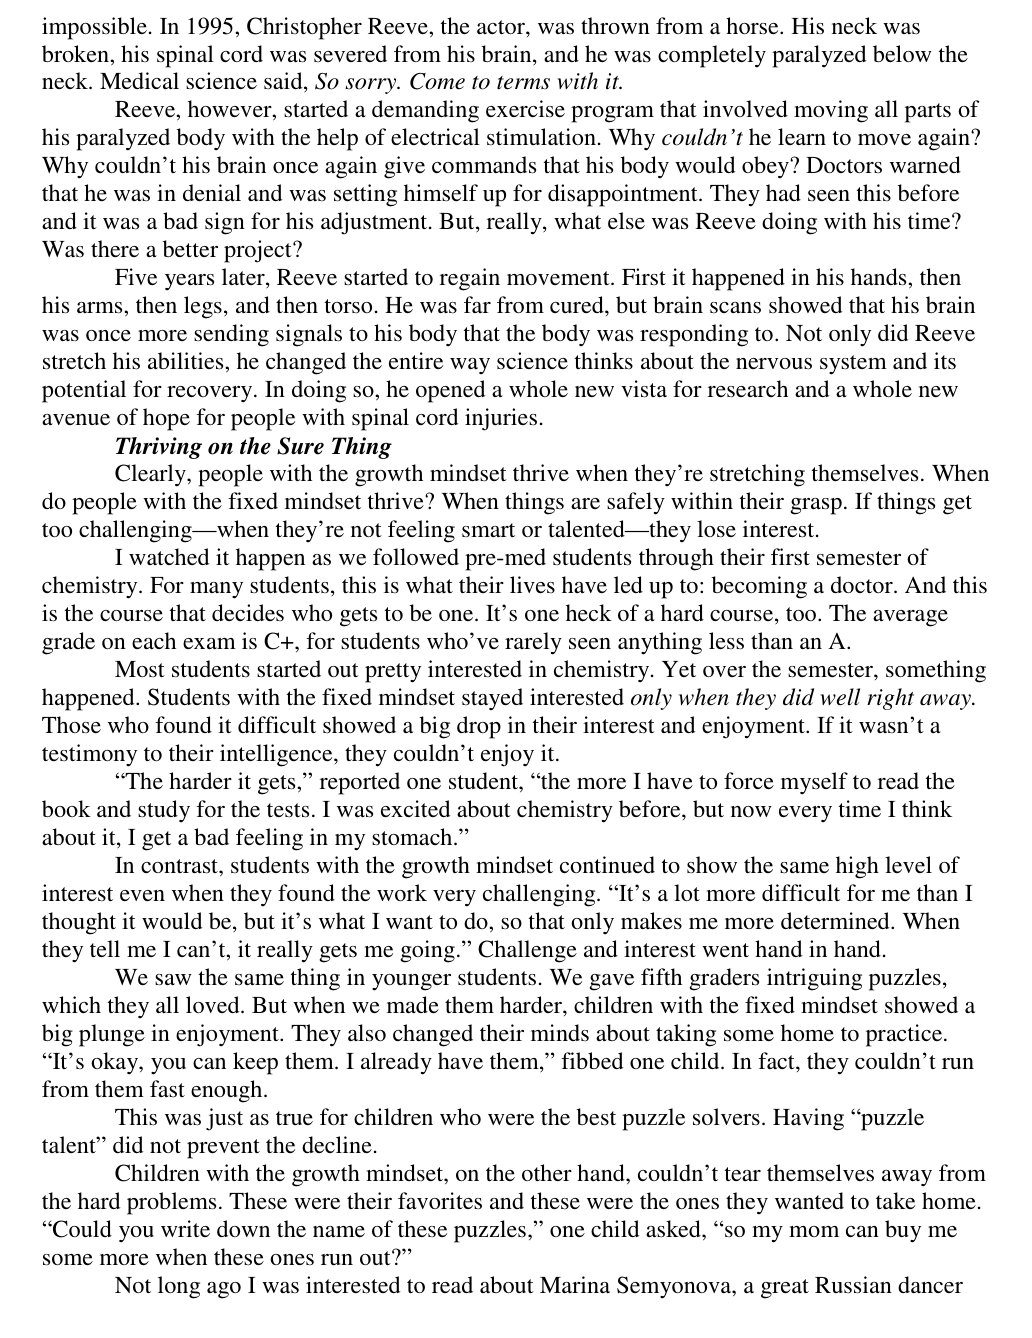latin: (35, 91, 982, 263), (34, 263, 992, 434), (33, 1103, 986, 1270), (36, 969, 976, 1103), (37, 548, 1001, 660), (29, 661, 990, 767), (26, 855, 973, 962), (37, 460, 992, 541), (36, 774, 958, 849), (40, 14, 970, 88), (112, 1277, 964, 1300), (113, 434, 391, 458)
